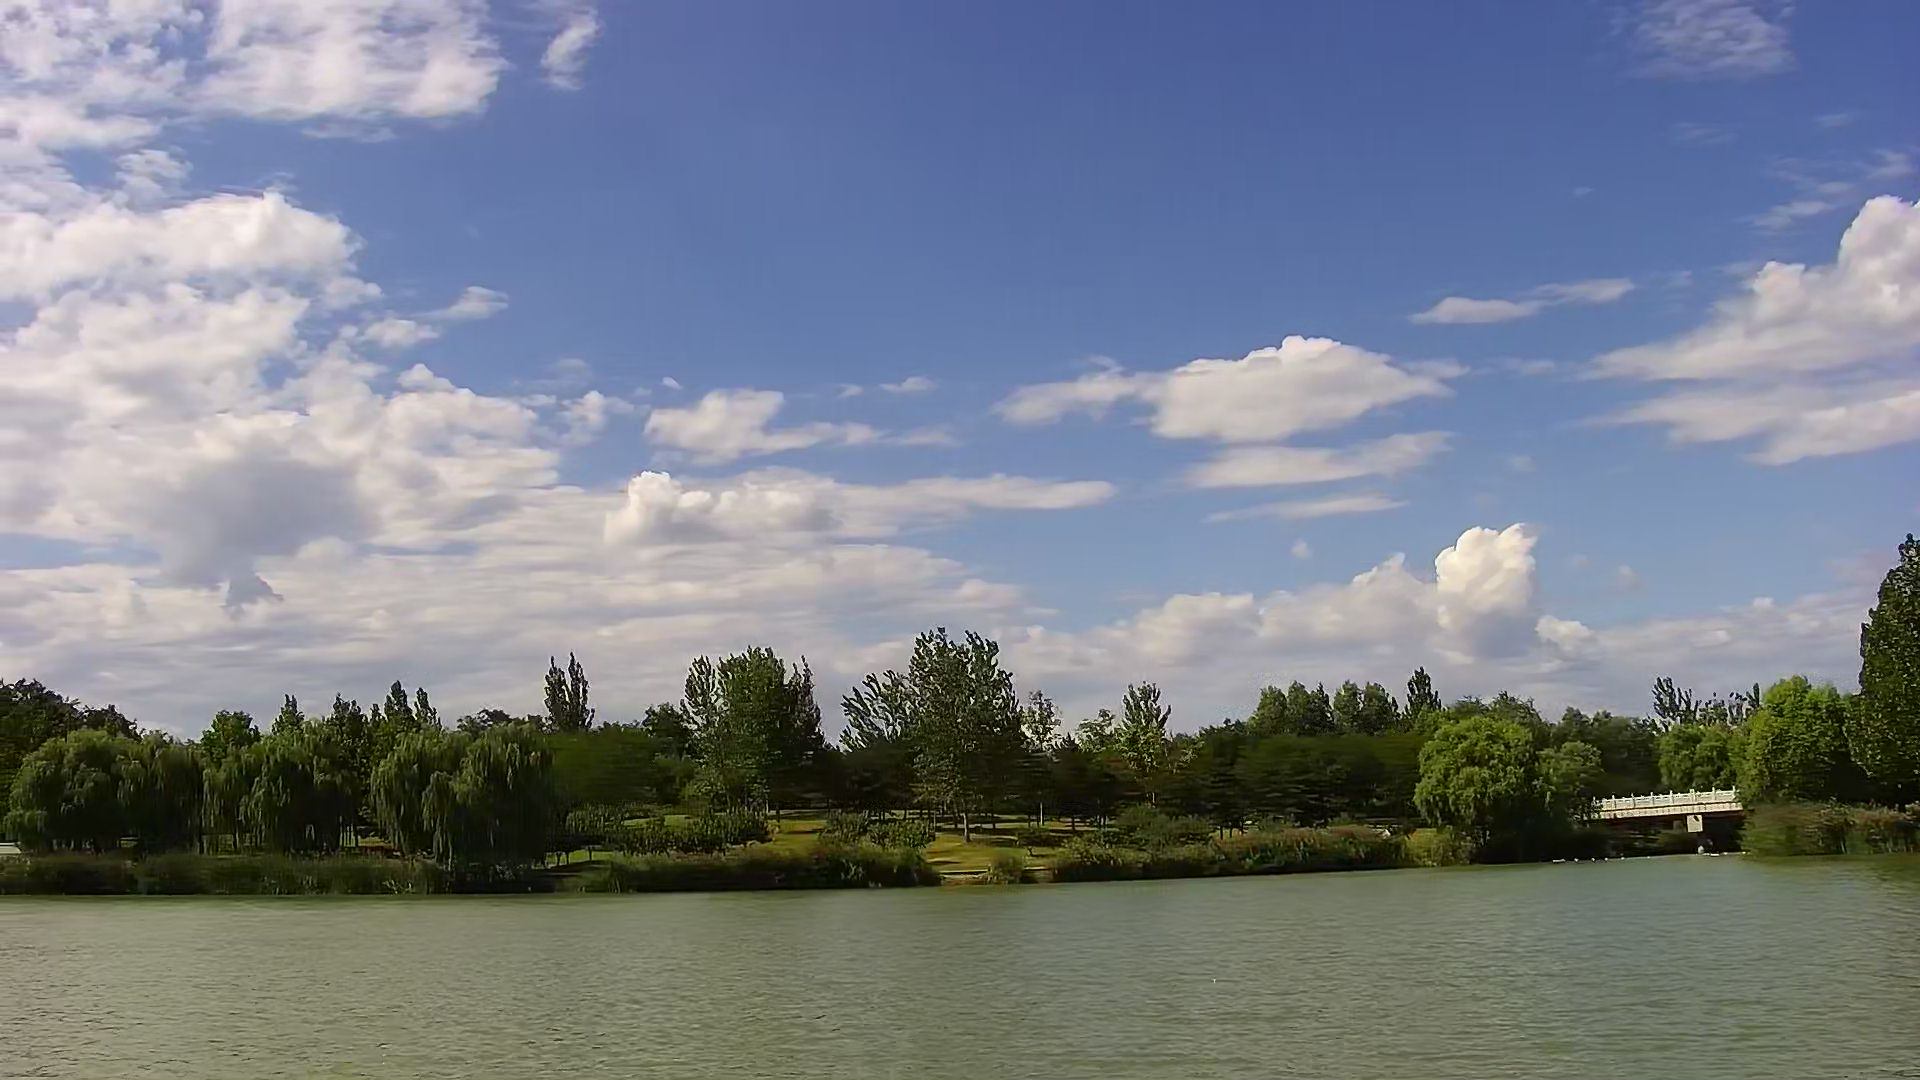bridge: (1600, 789, 1741, 855)
